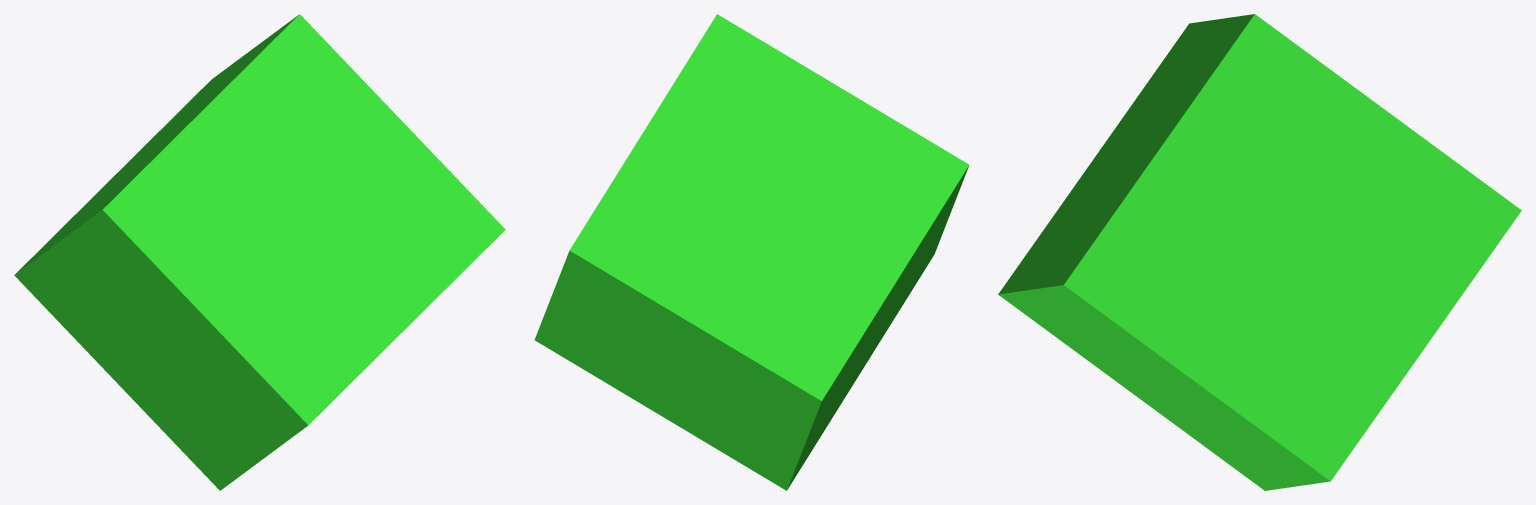
The model's file is CubeRotated.gltf.
The picture shows the model from 3 angles, left to right: view 1: azimuth 30°, elevation 25°; view 2: azimuth 150°, elevation 25°; view 3: azimuth 270°, elevation 25°; orthographic projection. The views are drawn at different scales.
Parts seen in each view (by area): view 1: Cube; view 2: Cube; view 3: Cube.
Part boxes in pixels (x1,y1,x2,y2): Cube: [14, 14, 505, 490]; Cube: [534, 14, 969, 490]; Cube: [998, 14, 1521, 490].
Size of the model in its own units: 2.92 by 3.41 by 3.13.
